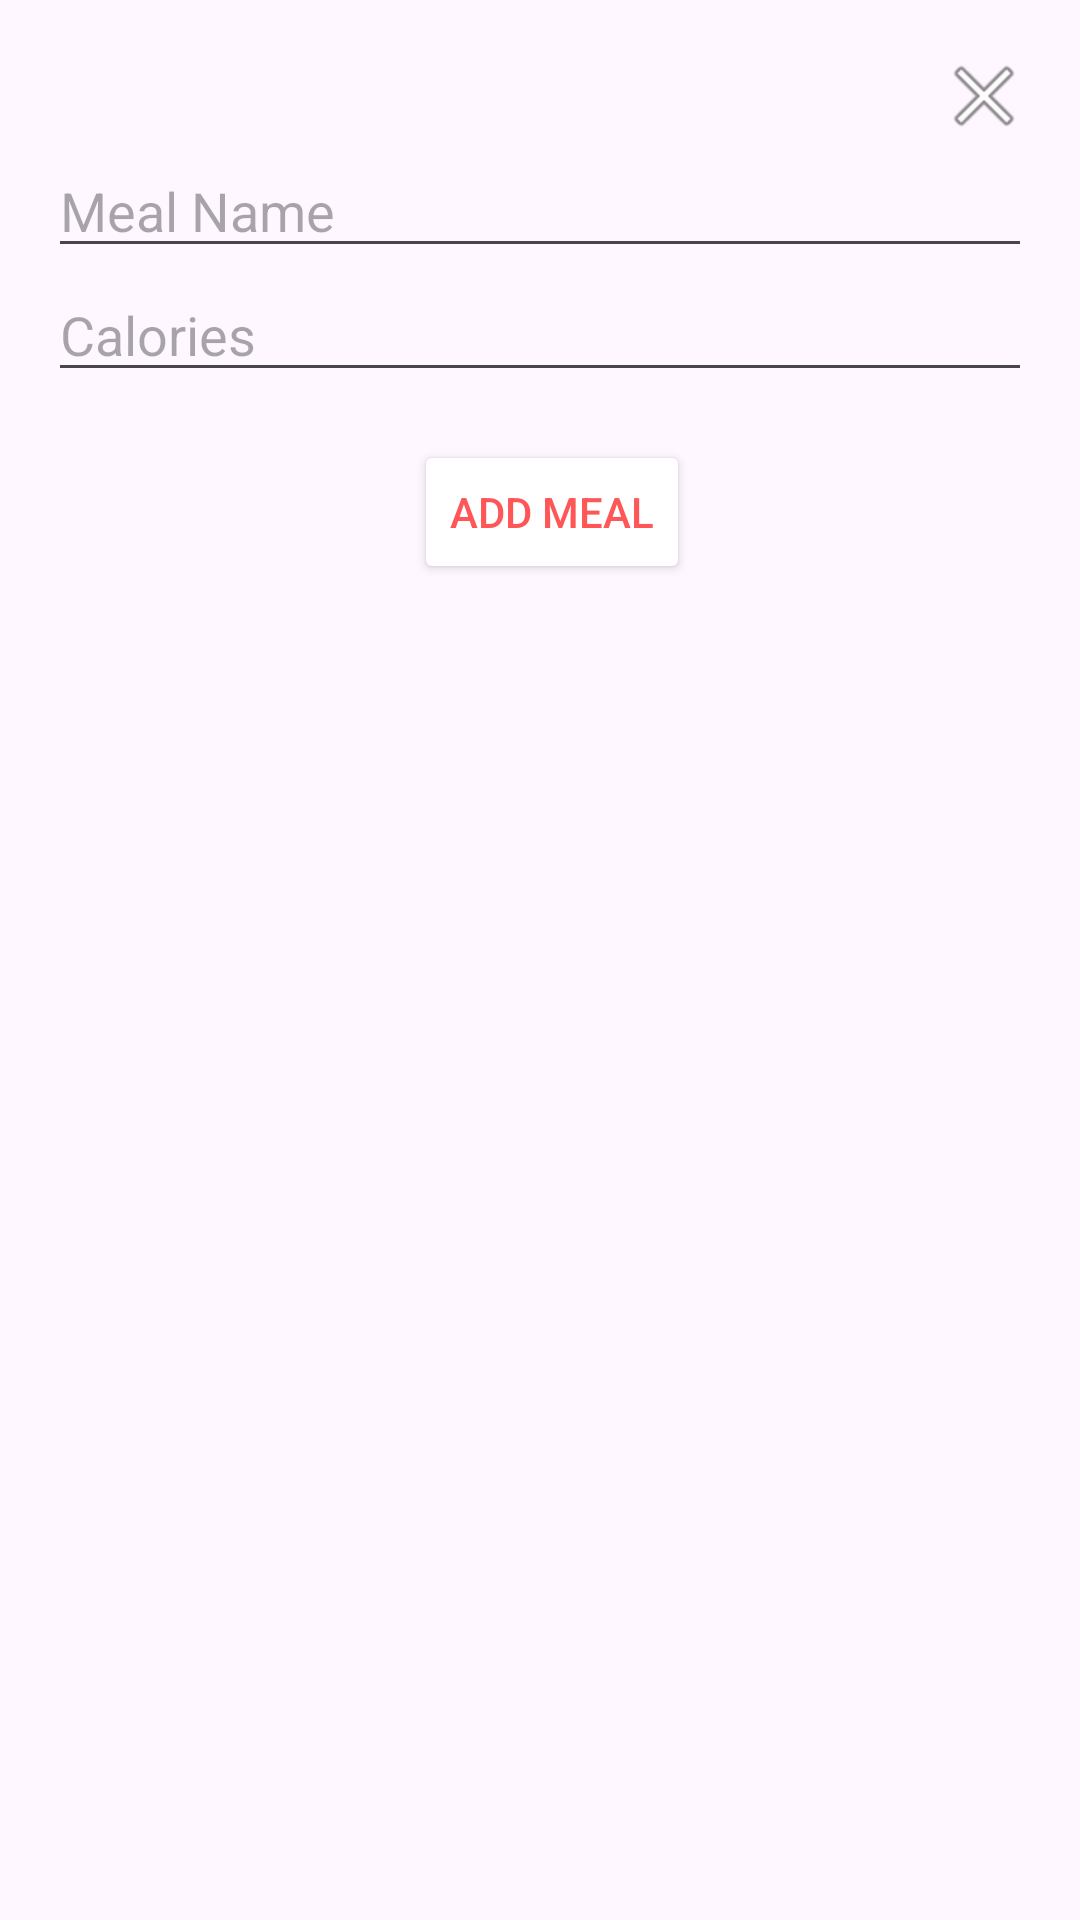

Named icons in this screenshot (1080px×1920px) and their centers, (x=x, y=y):
Close Popup: (x=984, y=96)
